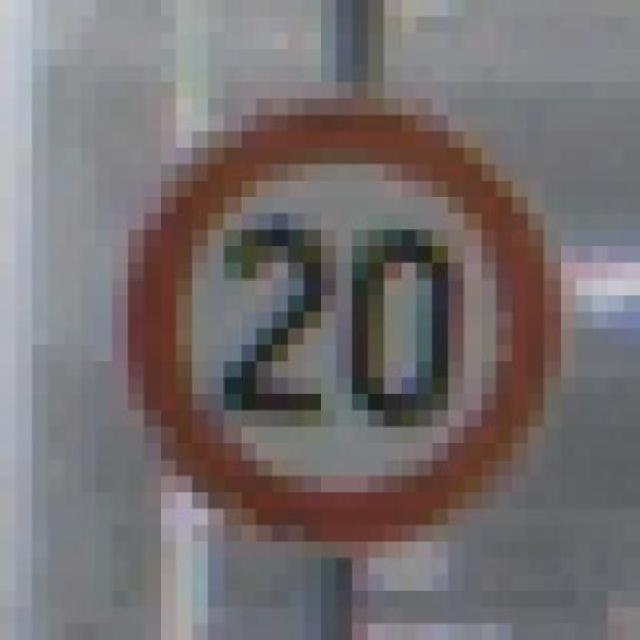forb_speed_over_20: (131, 111, 555, 546)
